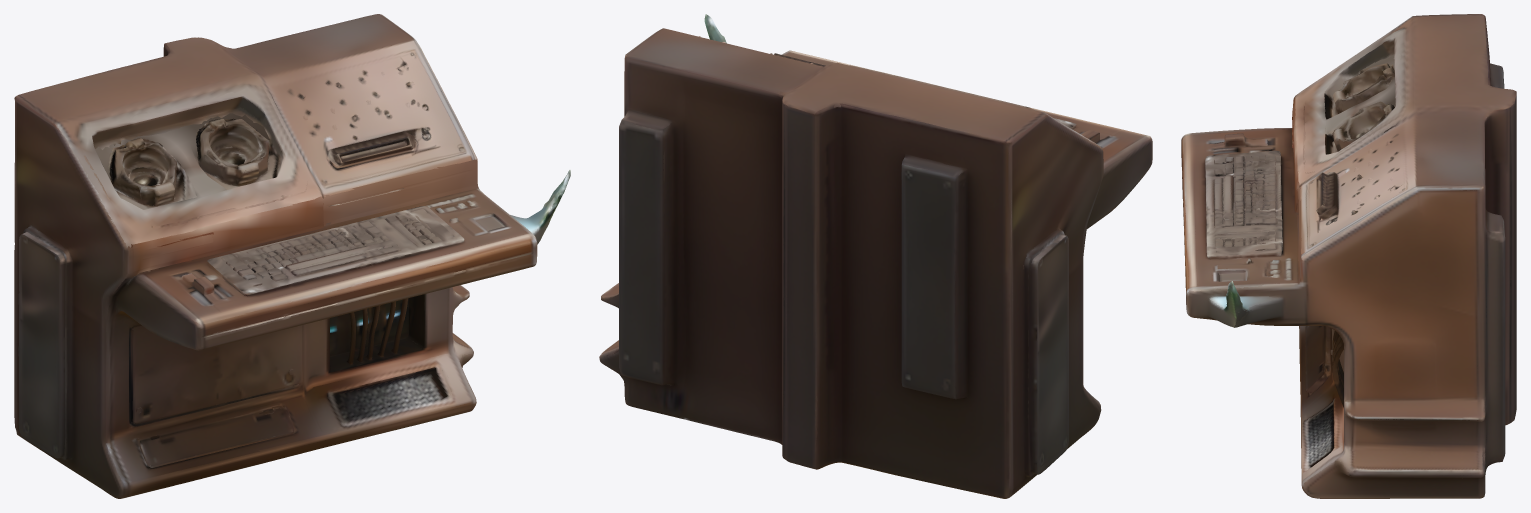
Rendered from base_basic_shaded.fbx.
3 views of the same model, side by side, from view 1: azimuth 30°, elevation 25°; view 2: azimuth 150°, elevation 25°; view 3: azimuth 270°, elevation 25° (orthographic). The views are drawn at different scales.
Visible parts, largest first — view 1: model; view 2: model; view 3: model.
Part boxes in pixels (left/top/right/bottom): model: left=14, top=14, right=570, bottom=498; model: left=599, top=14, right=1152, bottom=498; model: left=1181, top=14, right=1516, bottom=498.
Bounding box in the file's own units: 190 × 143 × 135.
